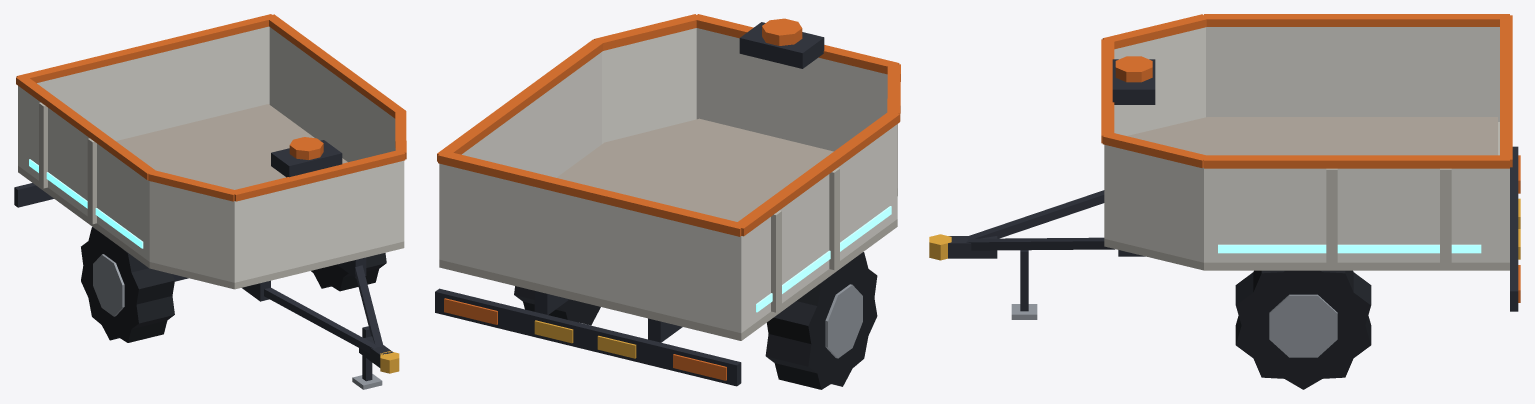
The model's file is vozidlo-prachocuc-privez-1.glb.
3 renders of one model, left to right at view 1: azimuth 30°, elevation 25°; view 2: azimuth 150°, elevation 25°; view 3: azimuth 270°, elevation 25°, orthographic. The views are drawn at different scales.
Parts seen in each view (by area): view 1: karoserie, hladina, kolo_1, kolo_2; view 2: karoserie, hladina, kolo_1, kolo_2; view 3: karoserie, kolo_2, hladina.
Part boxes in pixels (x1,y1,x2,y2): karoserie: [14, 14, 406, 389]; hladina: [116, 104, 347, 189]; kolo_1: [81, 227, 174, 342]; kolo_2: [311, 253, 386, 291]; karoserie: [435, 14, 900, 386]; hladina: [556, 118, 833, 221]; kolo_1: [765, 252, 877, 389]; kolo_2: [514, 286, 600, 325]; karoserie: [929, 14, 1520, 319]; kolo_2: [1235, 270, 1371, 389]; hladina: [1127, 117, 1497, 155].
Bounding box in the file's own units: 2.48 × 1.98 × 4.15.
